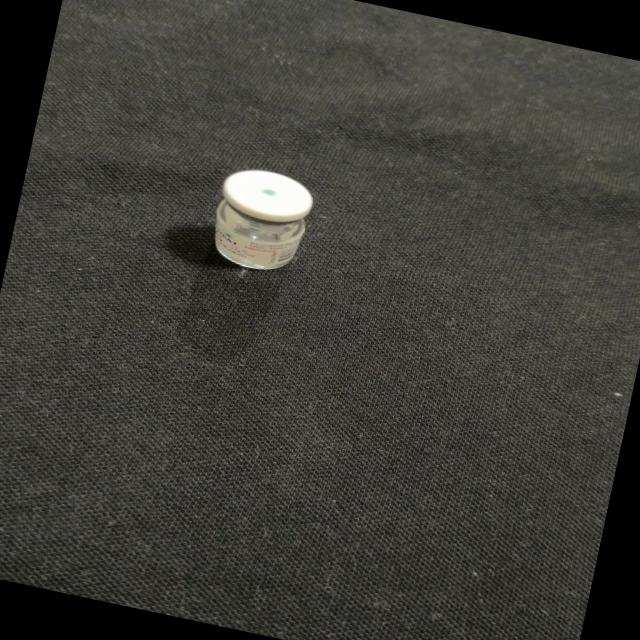fentanl_citrat: (206, 164, 314, 276)
